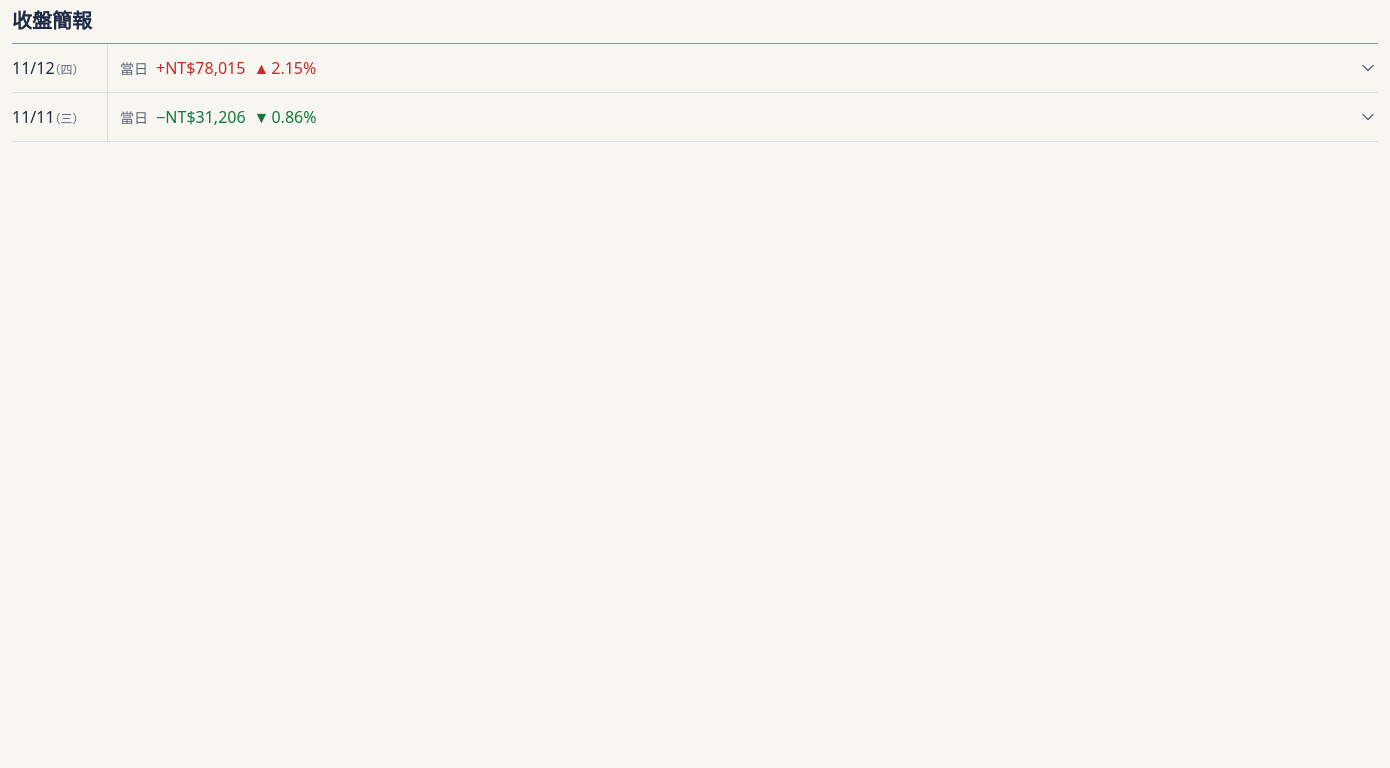
Test: 對話紀錄頁的「收盤簡報」 › 一列一則（日期、當日損益），按一下展開內容；再按收起來
The image size is (1390, 768).
Expected: the heading "收盤簡報" is shown, 12,7 -> 92,35
Expected: the button "11/11 （三） 當日 −NT$31,206 ▼ 0.86%" is shown, 12,93 -> 1378,141
Click the button "11/12 （四） 當日 +NT$78,015 ▲ 2.15%".
click(60, 68)  # box 12,44 -> 1378,92
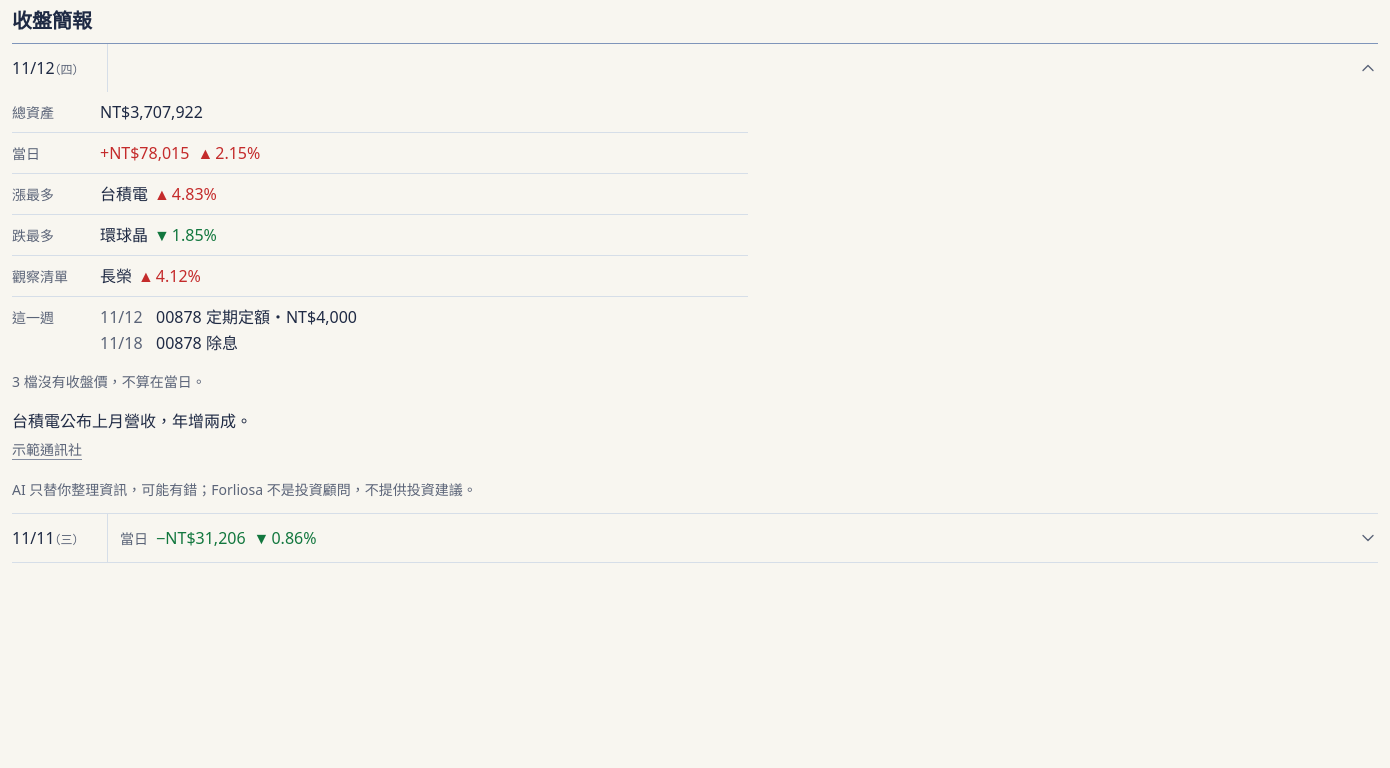
Now the button "11/12 （四）" is expanded
Now the text "總資產" is shown, box 12,103 -> 54,122
Click the button "11/12 （四）".
click(60, 68)  # box 12,44 -> 1378,92
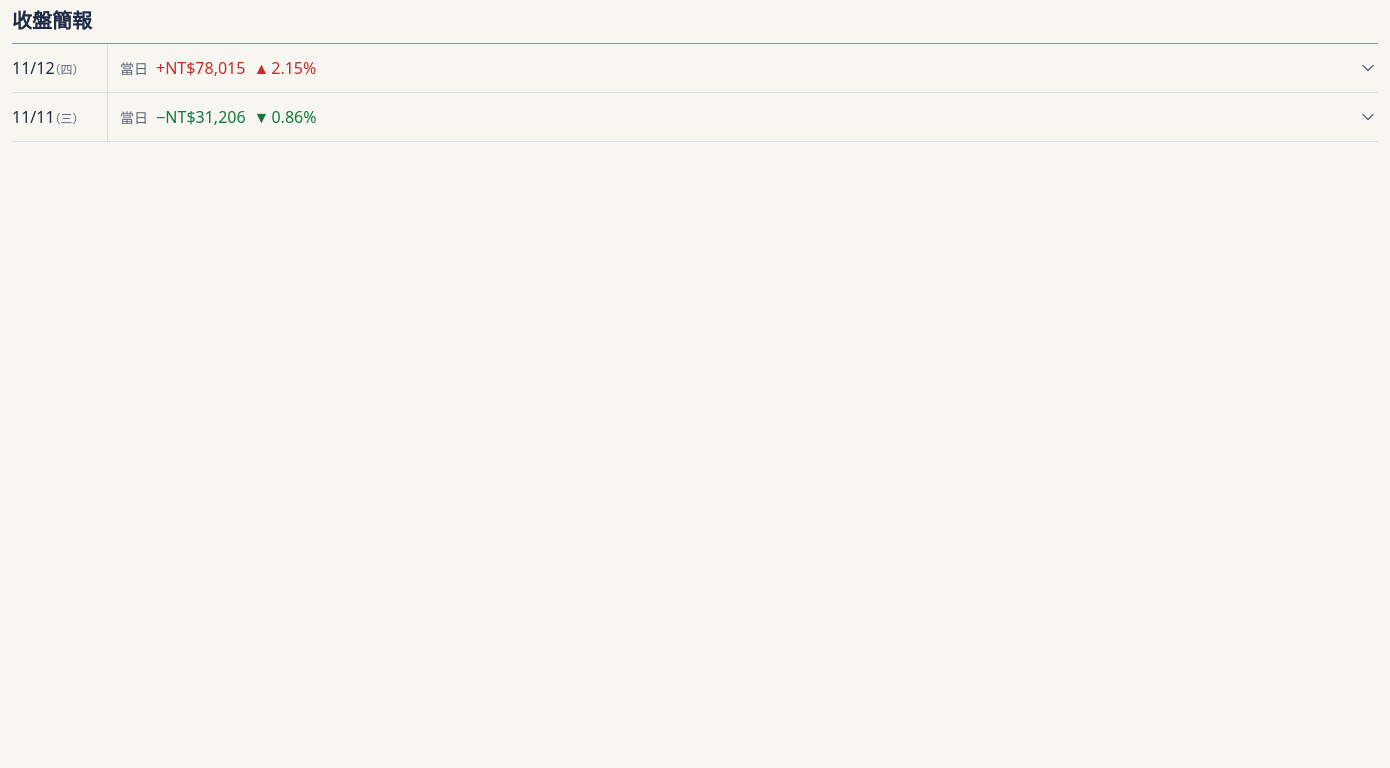
Now the text "總資產" is gone
